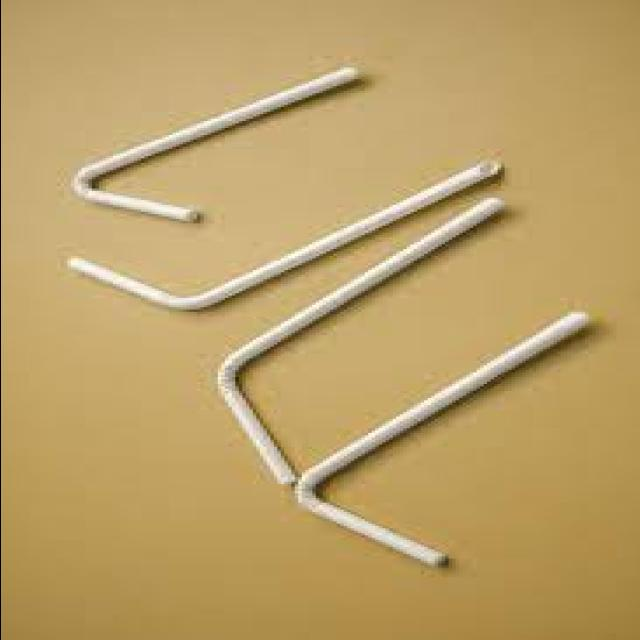straw: (218, 199, 501, 484), (299, 313, 587, 566), (66, 161, 499, 310), (73, 67, 358, 223)
